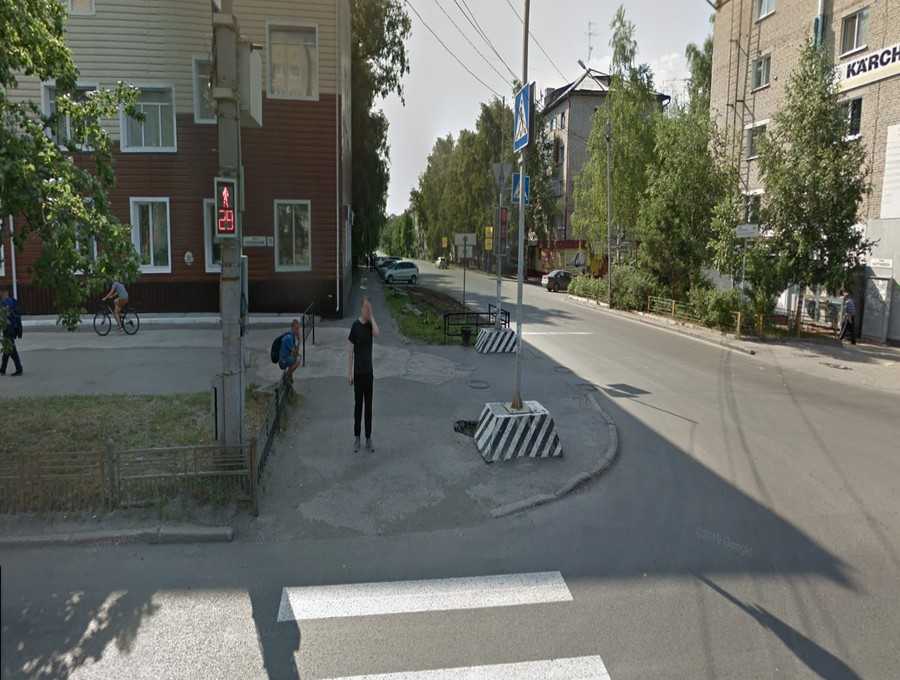Traffic Light-red: (204, 171, 243, 245)
